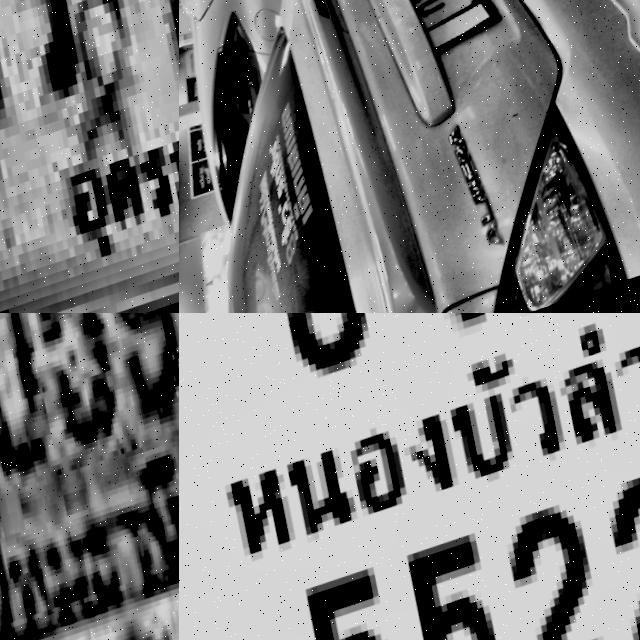license-plate: (179, 313, 640, 640), (0, 313, 179, 640), (0, 0, 179, 313), (359, 70, 444, 196)
